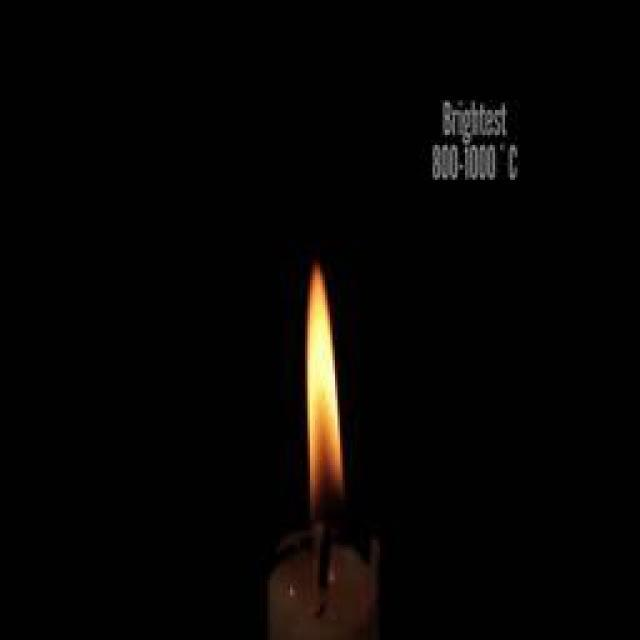Fire: (300, 266, 342, 504)
